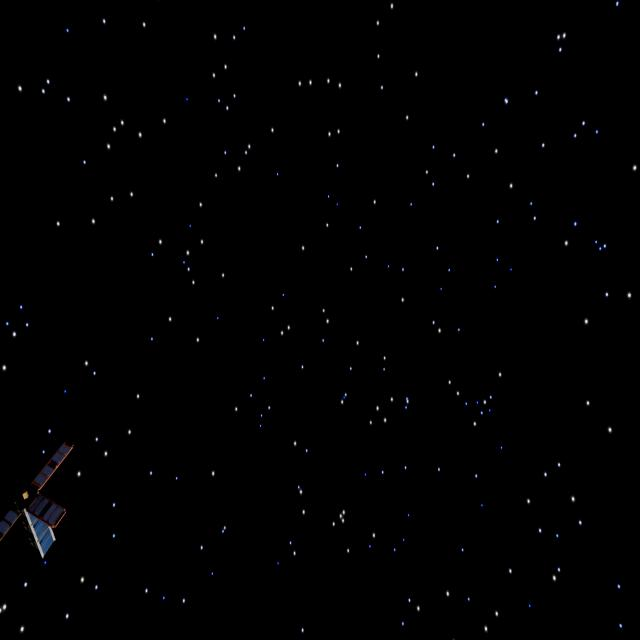medium_debris: (0, 433, 87, 557)
